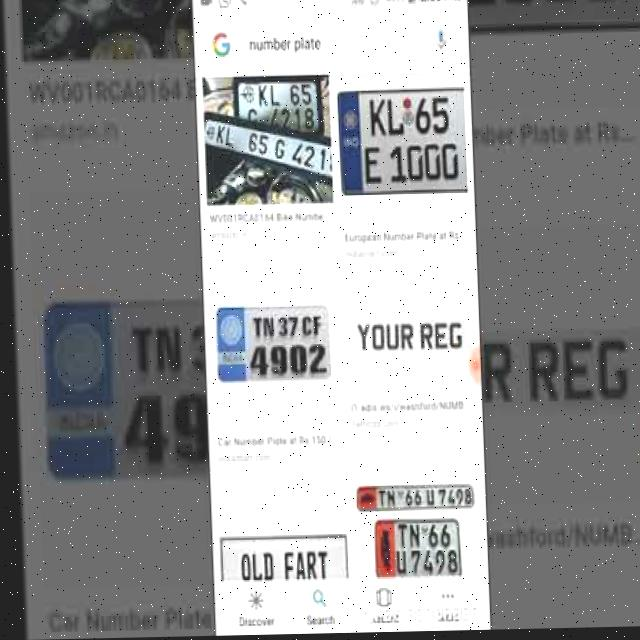plate: (338, 91, 468, 199), (205, 109, 335, 198), (209, 304, 325, 386), (371, 520, 458, 588), (233, 84, 325, 142), (351, 489, 473, 516)
